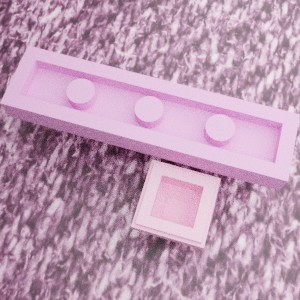lego: (0, 45, 300, 190), (130, 159, 220, 250)
